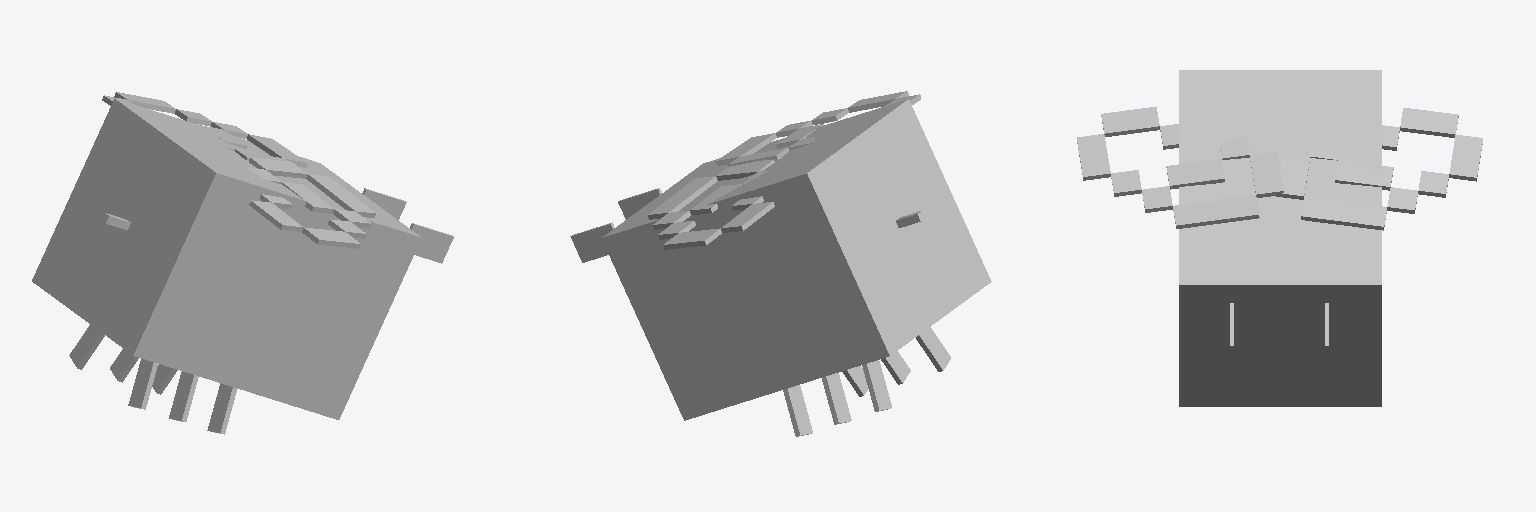
The model's file is Bee_ (180).obj.
3 views of the same model, side by side, from view 1: azimuth 30°, elevation 25°; view 2: azimuth 150°, elevation 25°; view 3: azimuth 270°, elevation 25° (orthographic).
Visible parts, largest first — view 1: b_Bee_MAT_0, l_Bee_MAT_0, r_Bee_MAT_0; view 2: b_Bee_MAT_0, r_Bee_MAT_0, l_Bee_MAT_0; view 3: b_Bee_MAT_0, l_Bee_MAT_0, r_Bee_MAT_0.
Boxes of the visible parts, x1=… form: b_Bee_MAT_0: x1=32, y1=98, x2=453, y2=434; l_Bee_MAT_0: x1=246, y1=157, x2=376, y2=248; r_Bee_MAT_0: x1=102, y1=92, x2=307, y2=167; b_Bee_MAT_0: x1=570, y1=99, x2=991, y2=436; r_Bee_MAT_0: x1=648, y1=159, x2=774, y2=249; l_Bee_MAT_0: x1=716, y1=91, x2=920, y2=166; b_Bee_MAT_0: x1=1179, y1=70, x2=1381, y2=406; l_Bee_MAT_0: x1=1077, y1=106, x2=1283, y2=228; r_Bee_MAT_0: x1=1276, y1=108, x2=1482, y2=230.
Bounding box in the file's own units: 0.3088 × 0.2421 × 0.3139.